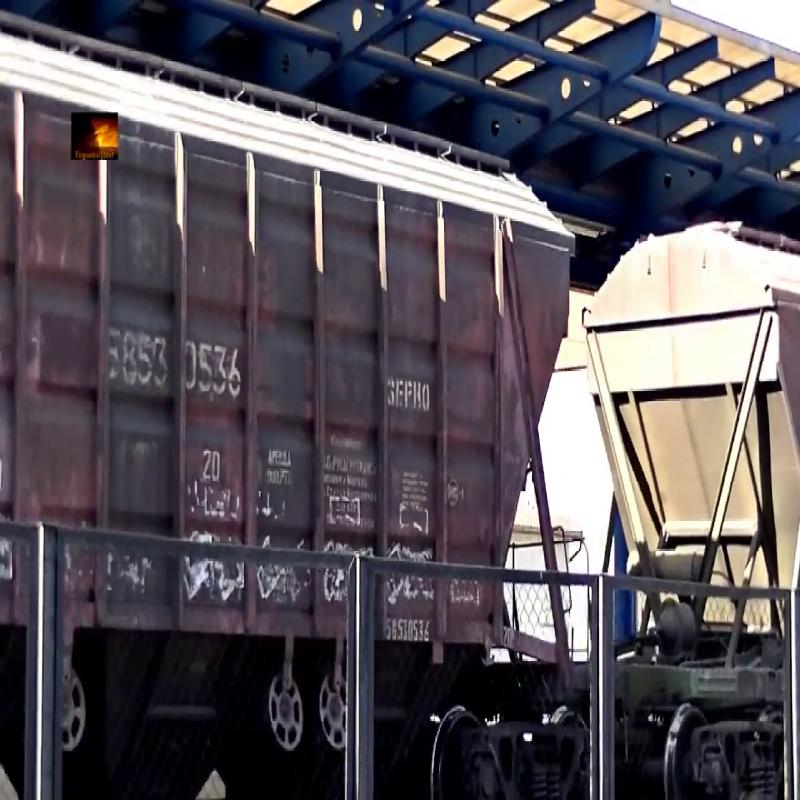train: (3, 22, 617, 771), (631, 22, 800, 770)
